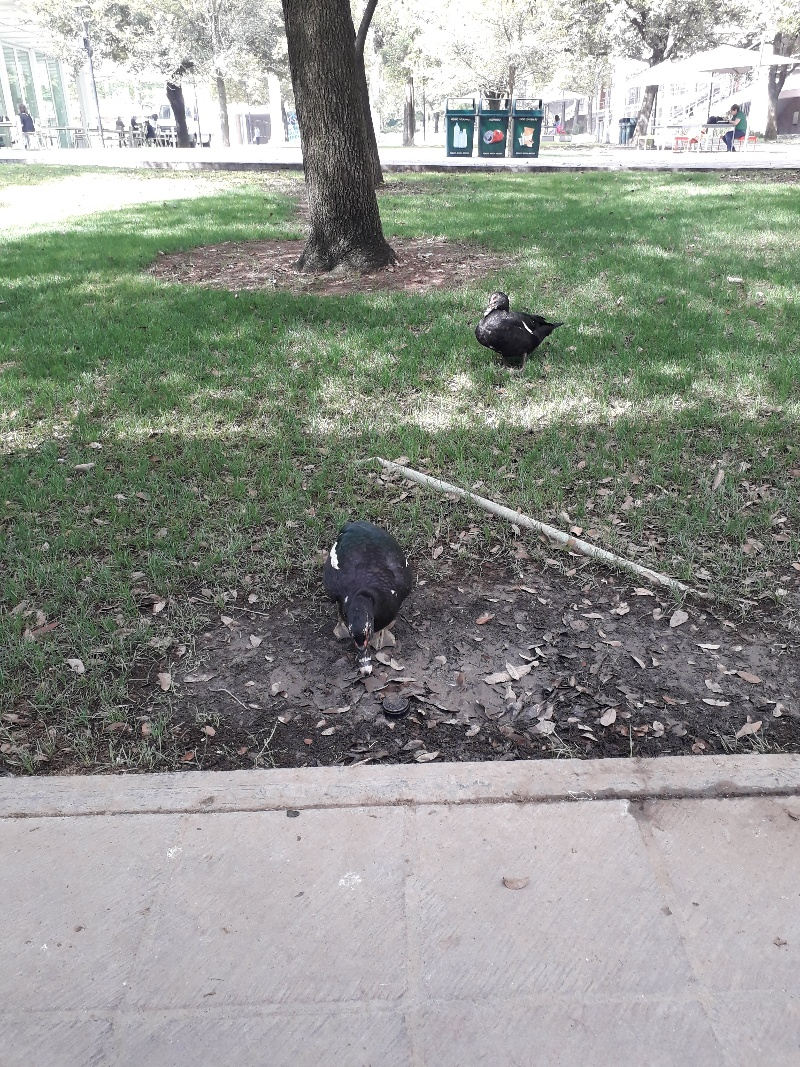pato: (323, 516, 409, 656), (479, 290, 554, 367)
